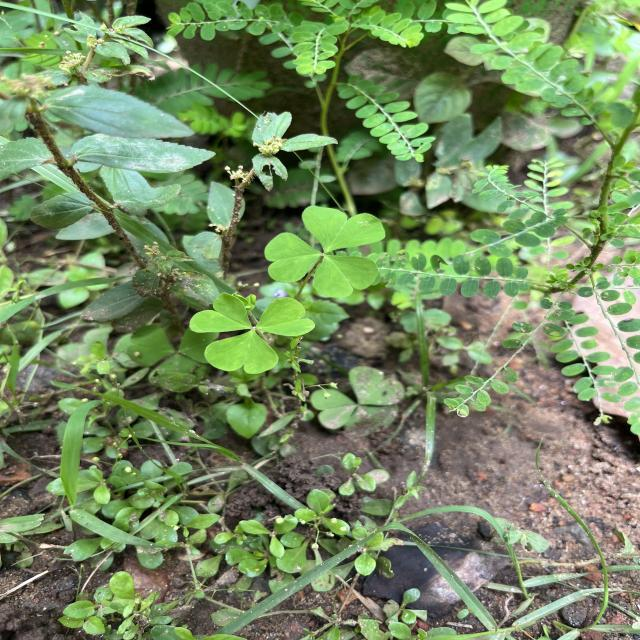Oxalis corniculata: (263, 204, 387, 300), (187, 291, 316, 375)
